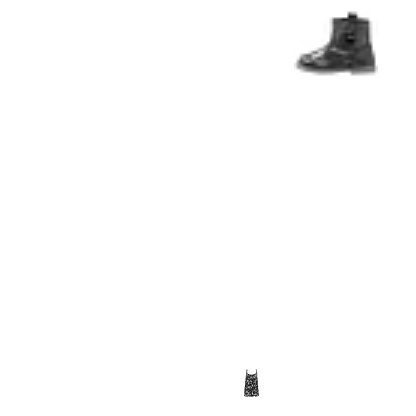Ankle_boot: (294, 0, 378, 84)
Shirt: (237, 369, 265, 397)
